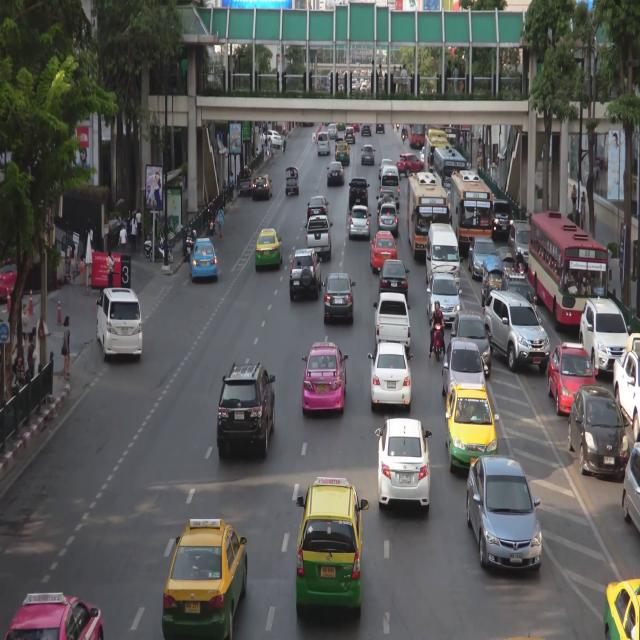bus: (529, 209, 609, 330), (407, 173, 452, 261), (449, 171, 495, 254), (433, 145, 468, 214), (425, 130, 448, 185), (409, 118, 426, 150)
car: (467, 455, 544, 576), (568, 383, 626, 483), (377, 417, 433, 515), (220, 361, 274, 461), (485, 291, 545, 377), (580, 298, 629, 377), (96, 285, 143, 360), (611, 333, 640, 436), (372, 345, 413, 412), (427, 220, 461, 296), (452, 311, 491, 376), (444, 341, 486, 399), (375, 294, 412, 354), (426, 274, 459, 329), (322, 273, 355, 325), (624, 438, 640, 544), (503, 269, 537, 315), (290, 247, 322, 294), (380, 258, 410, 302), (305, 215, 332, 260), (469, 238, 499, 275), (483, 257, 503, 305), (511, 221, 532, 266), (379, 163, 400, 202), (493, 198, 513, 238), (350, 202, 369, 240), (379, 201, 399, 232), (398, 152, 423, 176), (499, 247, 517, 279), (378, 189, 398, 217), (307, 194, 329, 219), (284, 165, 300, 198), (351, 176, 369, 205), (327, 158, 346, 185), (261, 128, 283, 151), (253, 175, 273, 199), (237, 167, 253, 194), (361, 142, 376, 166), (318, 133, 329, 156), (360, 122, 372, 136), (345, 128, 354, 144), (327, 125, 337, 138), (376, 122, 386, 134)
pedestrian: (60, 318, 76, 382), (106, 249, 116, 290), (21, 303, 30, 347), (69, 242, 78, 284), (27, 333, 35, 377), (119, 223, 128, 259), (129, 214, 137, 254), (217, 204, 224, 242), (581, 188, 589, 221), (571, 183, 579, 215), (228, 168, 236, 200), (269, 139, 276, 171), (78, 257, 85, 285), (136, 209, 142, 241), (283, 131, 288, 155)
taxi: (164, 514, 249, 640), (297, 475, 363, 620), (440, 382, 503, 479), (5, 590, 108, 640), (549, 341, 598, 417), (303, 340, 348, 413), (598, 575, 640, 640), (188, 239, 219, 287), (370, 228, 399, 272), (256, 228, 285, 270), (335, 139, 351, 166)
